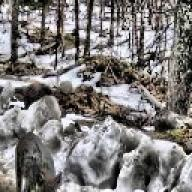boar: (12, 129, 62, 192)
